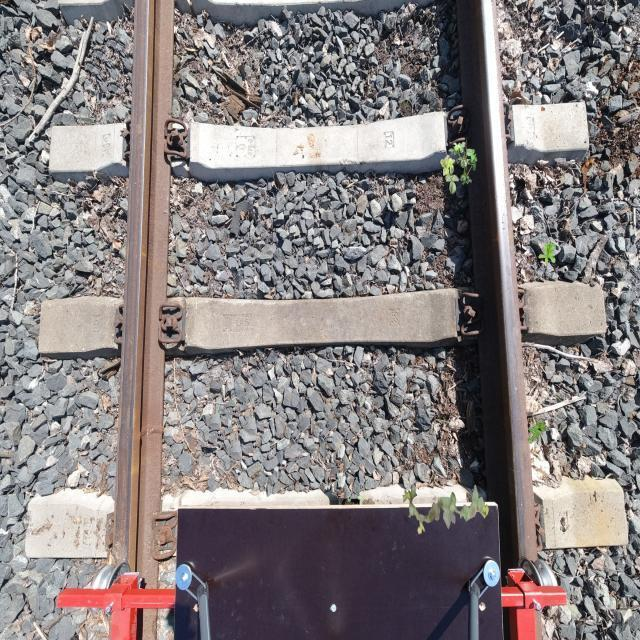Plant: (403, 483, 490, 534), (440, 139, 478, 194), (527, 420, 546, 444), (538, 241, 556, 265)
